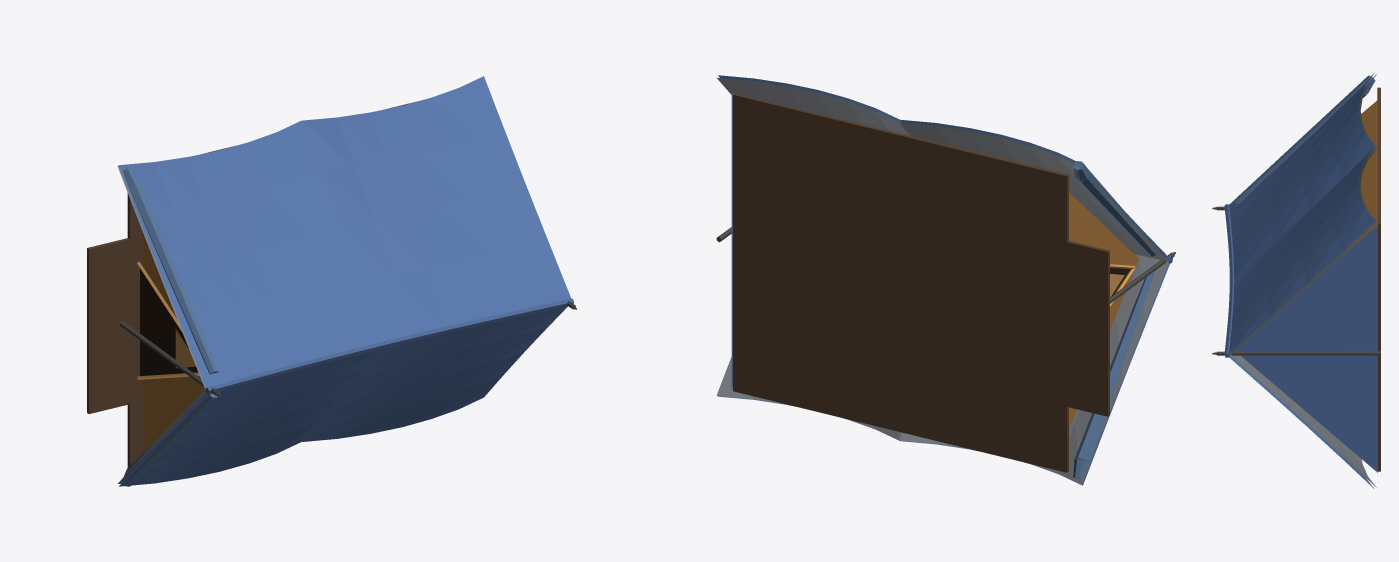
File: blue-56.obj
The picture shows the model from 3 angles, left to right: view 1: azimuth 30°, elevation 25°; view 2: azimuth 150°, elevation 25°; view 3: azimuth 270°, elevation 25°; orthographic projection. The views are drawn at different scales.
Bounding box in the file's own units: 3.58 × 2.52 × 1.13.
